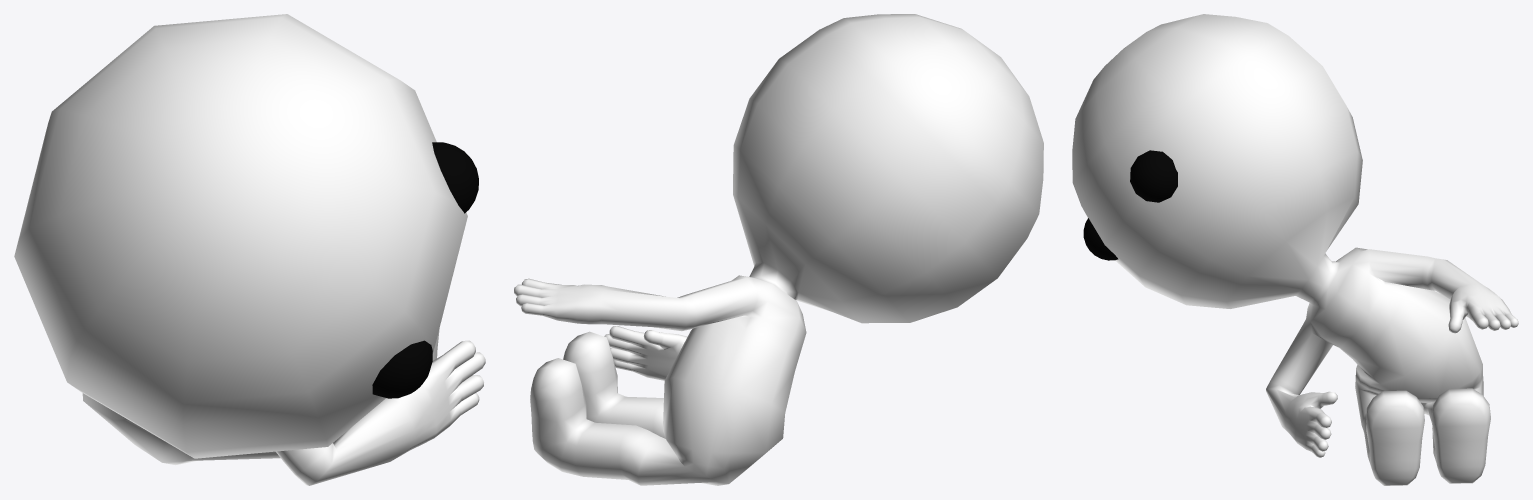
Rendered from Character.glb.
The picture shows the model from 3 angles, left to right: view 1: azimuth 30°, elevation 25°; view 2: azimuth 150°, elevation 25°; view 3: azimuth 270°, elevation 25°; orthographic projection. The views are drawn at different scales.
Parts seen in each view (by area): view 1: Character; view 2: Character; view 3: Character.
Boxes of the visible parts, bbox=[...] form: Character: bbox=[14, 14, 485, 485]; Character: bbox=[514, 14, 1043, 485]; Character: bbox=[1072, 14, 1518, 485].
Size of the model in its own units: 1.61 by 1.67 by 1.85.
Materials: 1 (1 with a texture image).
